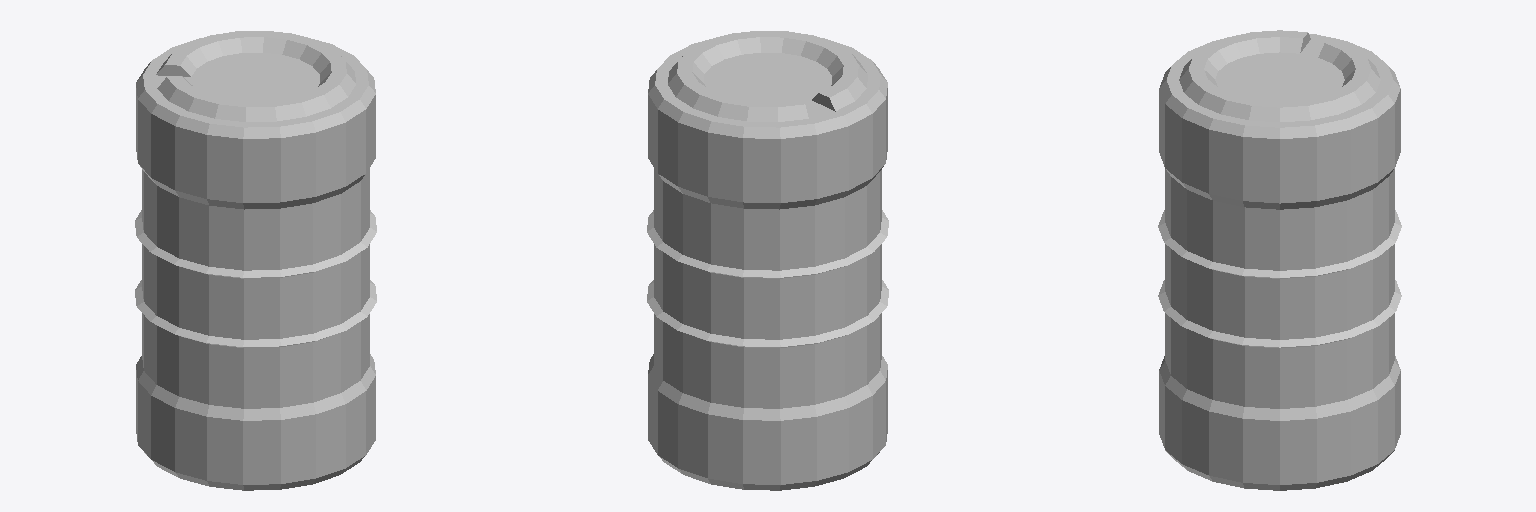
Rendered from Barrel.obj.
3 renders of one model, left to right at view 1: azimuth 30°, elevation 25°; view 2: azimuth 150°, elevation 25°; view 3: azimuth 270°, elevation 25°, orthographic.
Visible parts, largest first — view 1: Barrel; view 2: Barrel; view 3: Barrel.
Part boxes in pixels (left/top/right/bottom): Barrel: left=135, top=31, right=376, bottom=490; Barrel: left=647, top=31, right=888, bottom=490; Barrel: left=1158, top=30, right=1401, bottom=490.
Size of the model in its own units: 64.46 by 109 by 64.46.